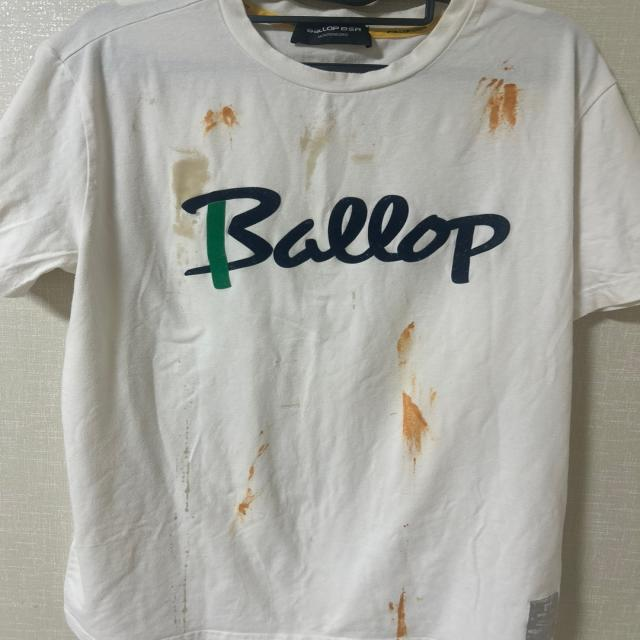stain: (473, 68, 538, 135), (394, 380, 444, 466), (168, 145, 206, 250), (235, 437, 276, 522), (170, 548, 205, 636), (383, 322, 429, 377), (295, 112, 325, 192), (178, 423, 200, 517), (378, 588, 416, 640), (202, 103, 246, 135), (492, 50, 530, 87), (338, 144, 379, 174)
